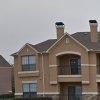Chimney: (52, 16, 69, 41)
